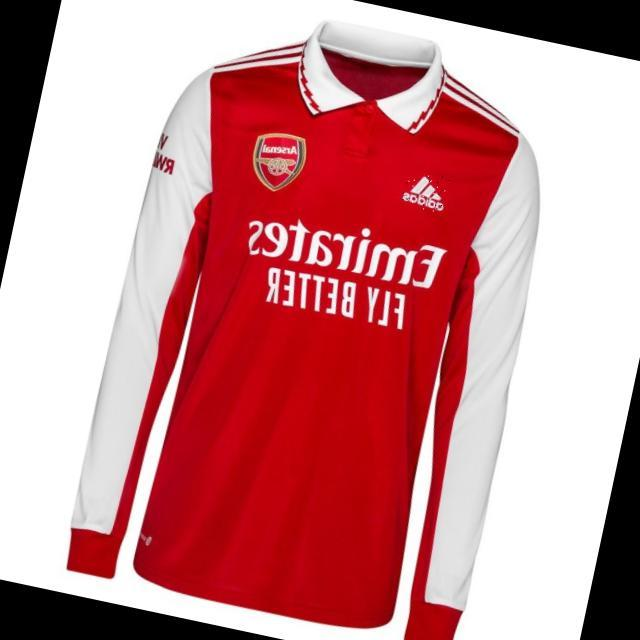Emirates: (238, 201, 446, 297), (400, 169, 451, 213)
